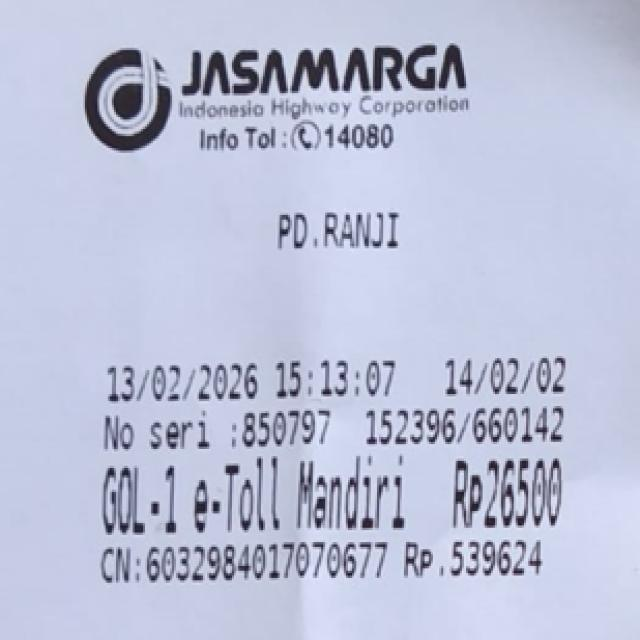date: (102, 357, 400, 399)
store: (173, 38, 485, 116)
total: (444, 454, 576, 531)
